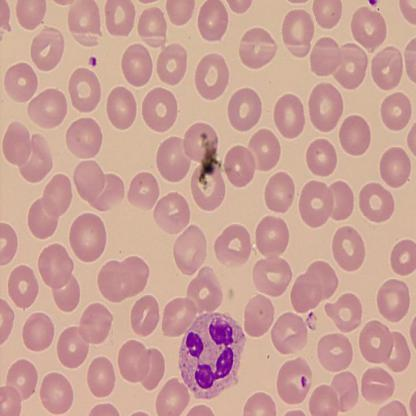Segmented neutrophil: (175, 308, 247, 400)
